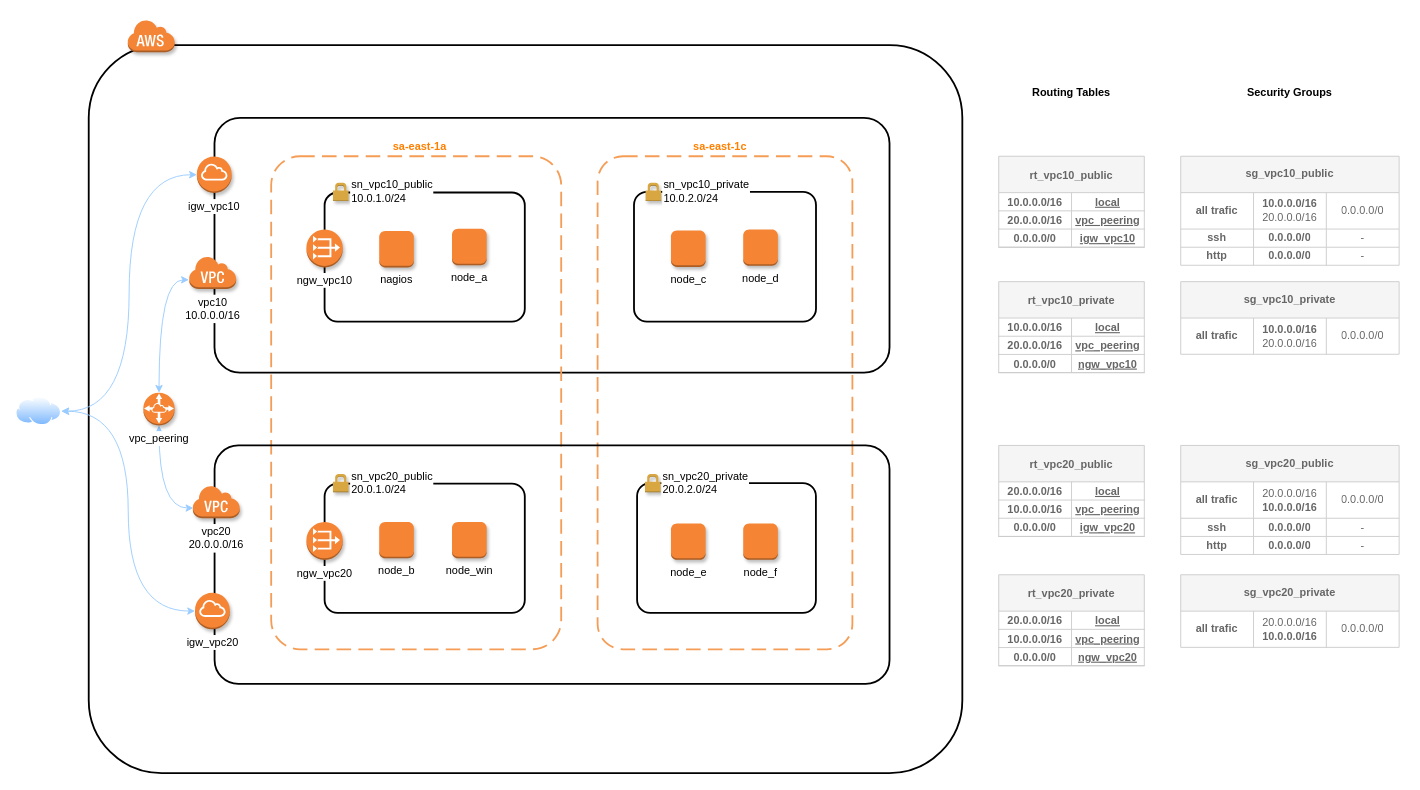
This 1420x790 diagram has some shape labels left out. Here are the shapes that lost their labels. From the top down, the centre of each, then its label:
point (151, 37): sa-east-1
point (38, 410): Internet
